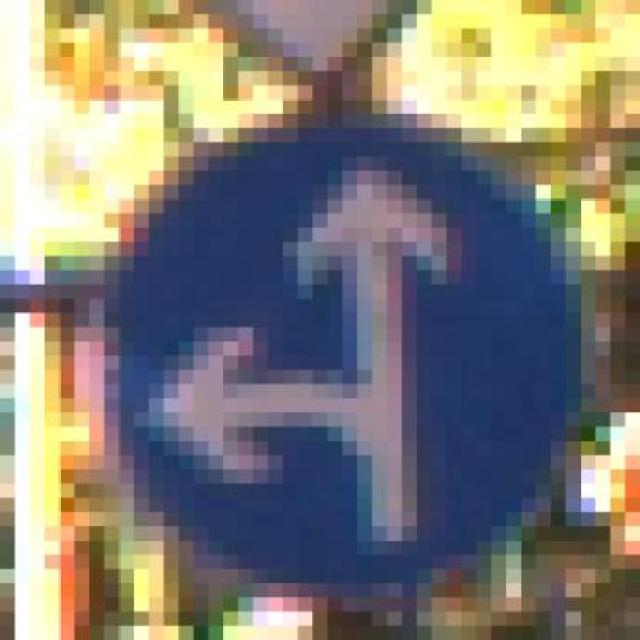Go straight or turn left: (74, 85, 611, 598)
